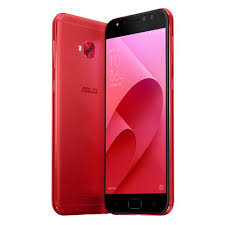asus: (101, 3, 180, 217), (49, 9, 112, 211)
